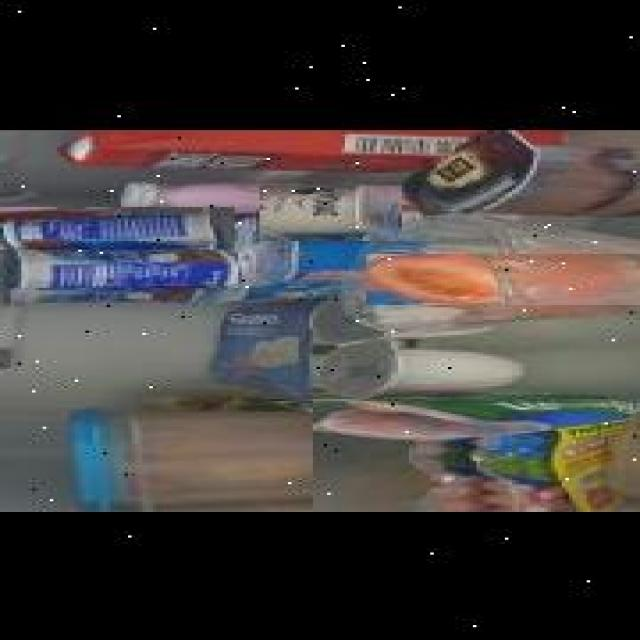sausage: (313, 395, 640, 510)
tomato: (366, 252, 640, 303)
tomato_sauce: (50, 128, 572, 171)
yogurt: (0, 205, 235, 247), (0, 246, 238, 285), (259, 182, 402, 238), (236, 229, 354, 287), (0, 282, 206, 307)
